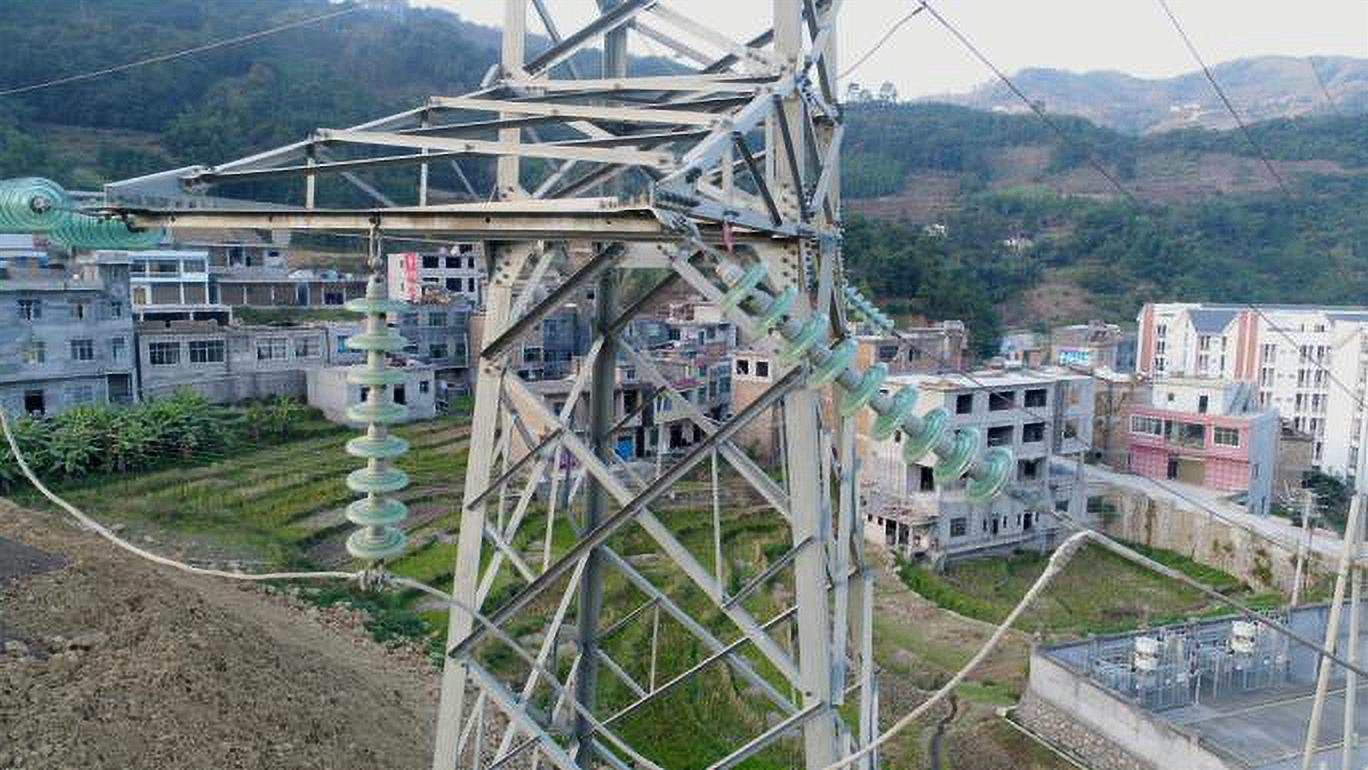insulator: (709, 257, 1020, 506), (333, 288, 418, 566), (1, 172, 173, 260), (837, 274, 901, 341)
